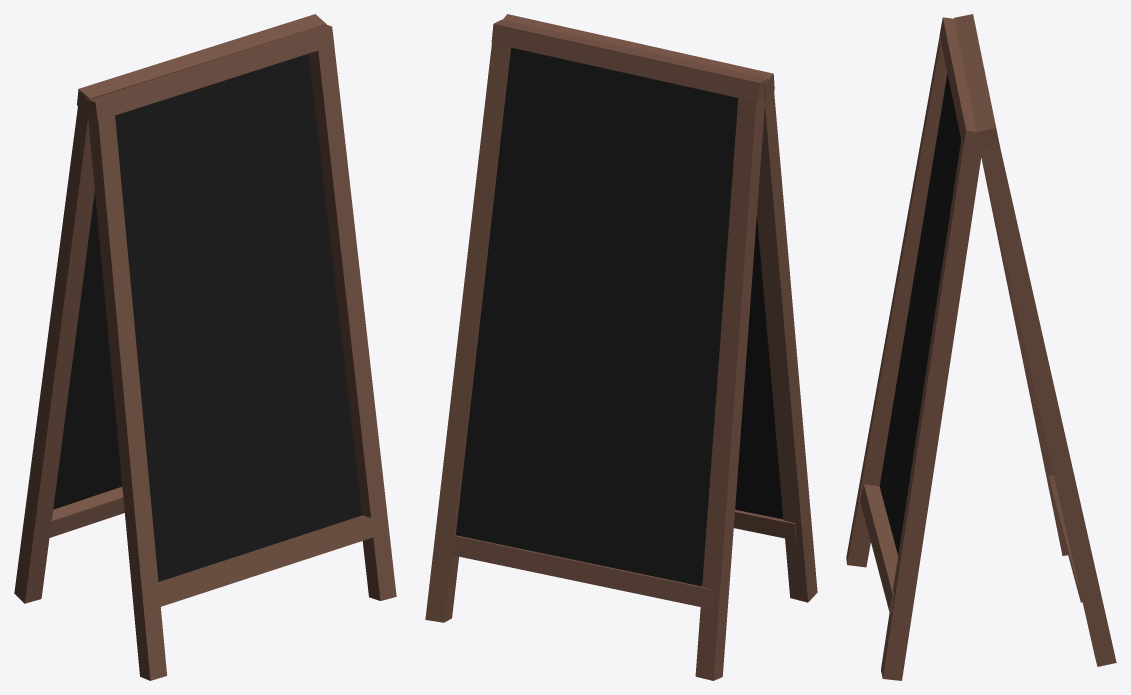
File: board.glb
3 views of the same model, side by side, from view 1: azimuth 30°, elevation 25°; view 2: azimuth 150°, elevation 25°; view 3: azimuth 270°, elevation 25° (orthographic). The views are drawn at different scales.
Parts seen in each view (by area): view 1: Node; view 2: Node; view 3: Node.
Boxes of the visible parts, x1,y1,x2,y2 form: Node: (14, 14, 396, 680); Node: (425, 14, 817, 680); Node: (846, 14, 1116, 680).
Bounding box in the file's own units: 0.1639 × 0.3086 × 0.138.
